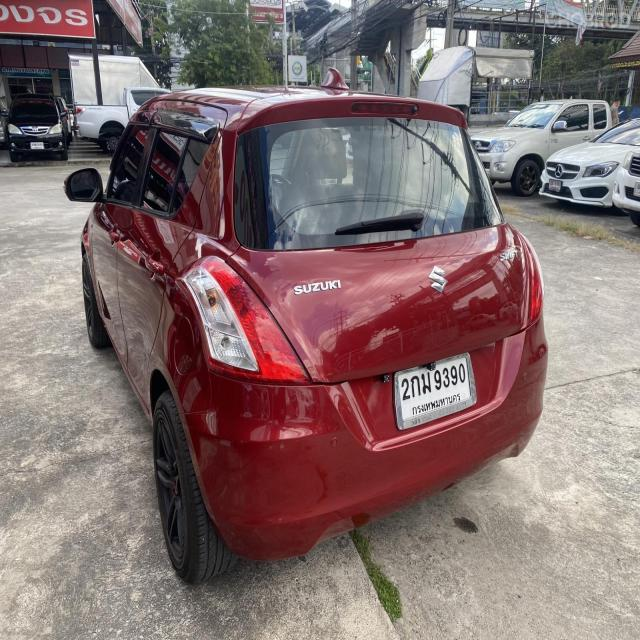license_plate: (395, 350, 479, 432)
